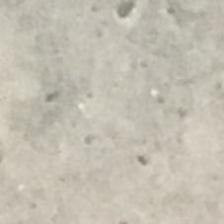Non_Crack: (15, 40, 224, 197)
